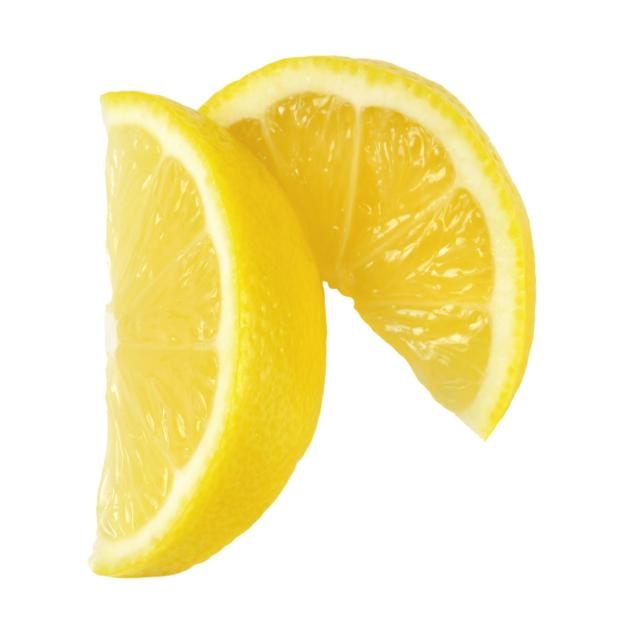lemon: (71, 43, 552, 594)
